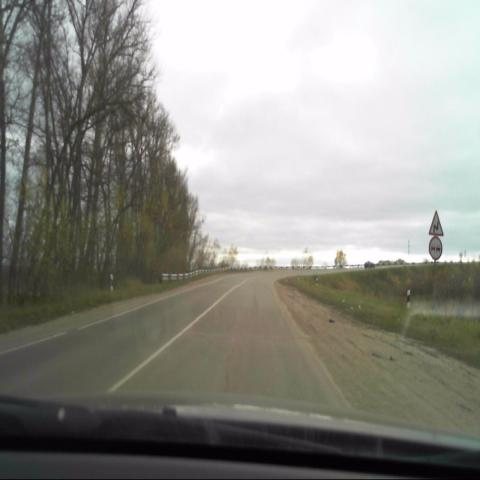1_12: (428, 210, 443, 236)
